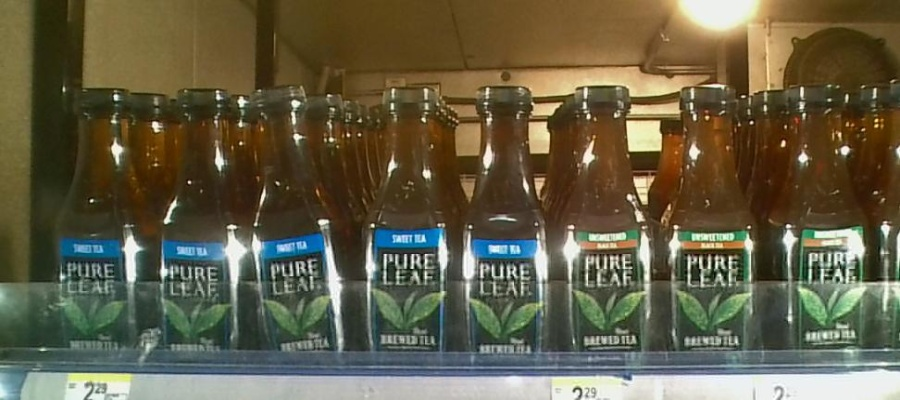bottle: (759, 82, 867, 365), (247, 82, 353, 368), (354, 82, 460, 368), (461, 82, 565, 370), (660, 80, 759, 361), (565, 80, 660, 365), (154, 83, 248, 364), (62, 80, 153, 360)
